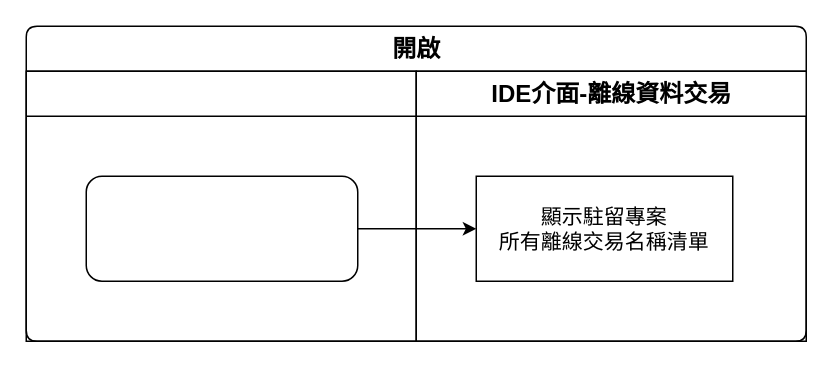
This 833x368 diagram has some shape labels left out. The shapes that lost their labels are listed below. From the top down, each one's box as (x1, y1, x2, y2) in pixels, then its label:
(25, 70, 416, 341): 設計者
(85, 175, 358, 281): 點擊: 專案架構樹_資料表格_DB08.離線資料交易 開啟
